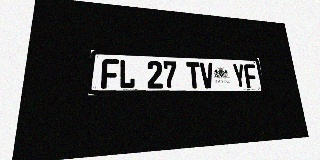2: (147, 60, 163, 88)
7: (162, 61, 178, 88)
F: (101, 59, 119, 89), (243, 64, 258, 88)
L: (119, 59, 135, 88)
T: (186, 62, 201, 88)
V: (199, 62, 215, 88)
Y: (232, 63, 247, 88)
